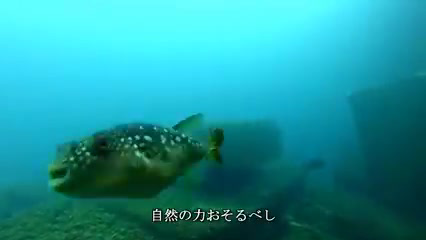hugu: (45, 111, 231, 211)
